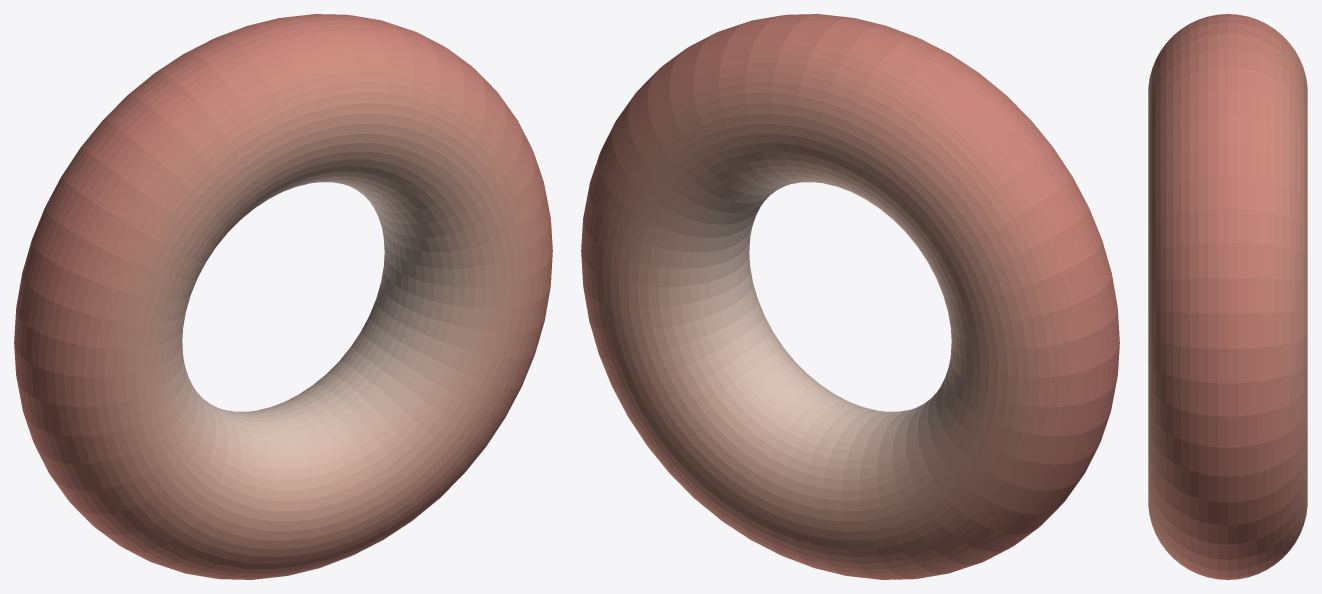
The picture shows the model from 3 angles, left to right: view 1: azimuth 30°, elevation 25°; view 2: azimuth 150°, elevation 25°; view 3: azimuth 270°, elevation 25°; orthographic projection. The views are drawn at different scales.
Parts seen in each view (by area): view 1: world; view 2: world; view 3: world.
Part boxes in pixels (bbox=[...]): world: bbox=[14, 14, 552, 579]; world: bbox=[581, 14, 1119, 579]; world: bbox=[1148, 14, 1307, 579].
Bounding box in the file's own units: 27.87 × 27.81 × 7.85.
